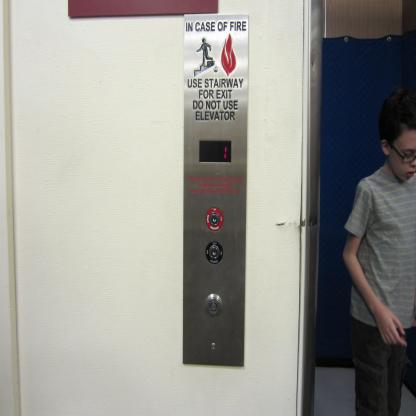empty: (203, 293, 224, 318)
keyhole: (205, 240, 224, 265), (206, 207, 223, 230)
led: (199, 140, 232, 164)
